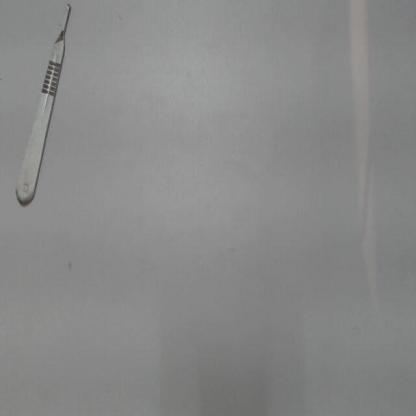No.3 BP Handle: (10, 4, 81, 222)
